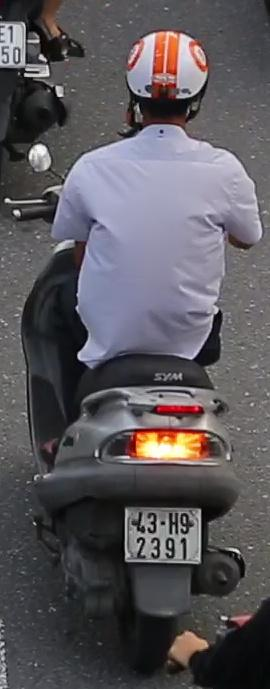LP: (119, 498, 206, 570)
helmet: (121, 25, 212, 140)
